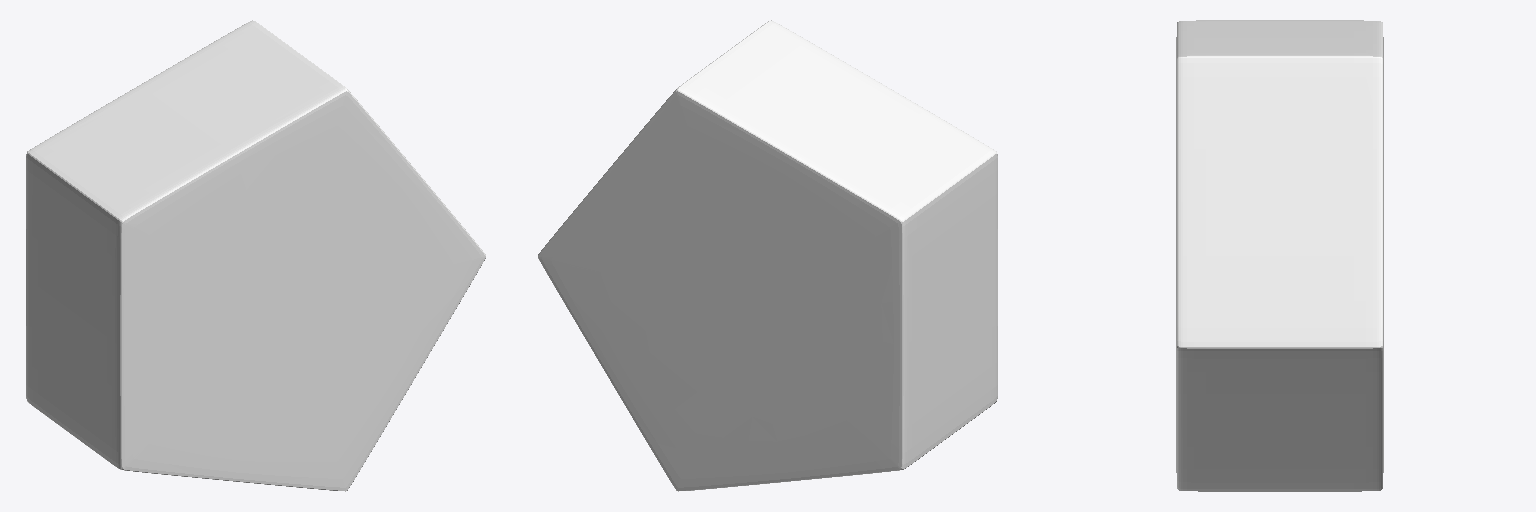
URDF robot description (p5.urdf):
<?xml version="0.0" ?>
<robot name="p5.urdf">
  <link name="baseLink">
    <contact>
      <lateral_friction value="1.0"/>
  <!--     <rolling_friction value="0.0"/>
      <spinning_friction value="0.01">
      <inertia_scaling value="3.0"/>
      <contact_cfm value="0.0"/>
      <contact_erp value="1.0"/> -->
    </contact>
    <inertial>
      <origin rpy="0 0 0" xyz="0 0 0"/>
       <mass value=".09"/>
       <inertia ixx="1" ixy="0" ixz="0" iyy="1" iyz="0" izz="1"/>
    </inertial>
    <visual>
      <origin rpy="0 0 0" xyz="0 0 0"/>
        <geometry>
      <mesh filename="P5.obj" scale=".06 .06 .06"/>
        </geometry>
        <material name="white">
          <color rgba="1 1 1 1"/>
        </material>
    </visual>
    <collision>
        <origin rpy="0 0 0" xyz="0 0 0"/>
        <geometry>
          <mesh filename="P5.obj" scale=".06 .06 .06"/>
        </geometry>
    </collision>
  </link>
</robot>

--- Render facts (derived) ---
Views: 3 orthographic renders of the robot side by side, from view 1: azimuth 30°, elevation 25°; view 2: azimuth 150°, elevation 25°; view 3: azimuth 270°, elevation 25°.
Robot: p5.urdf — 1 links, 0 joints (none); root link baseLink; default pose: all joints at 0.
Links seen in each view (by area): view 1: baseLink; view 2: baseLink; view 3: baseLink.
Link boxes in pixels (x1,y1,x2,y2): baseLink: [26, 20, 485, 491]; baseLink: [538, 20, 997, 491]; baseLink: [1176, 20, 1383, 491].
Size in the robot's own frame: 0.266 by 0.1207 by 0.2791 metres.
Meshes: 1 distinct files referenced, 1 mesh visuals loaded (1 OBJ).